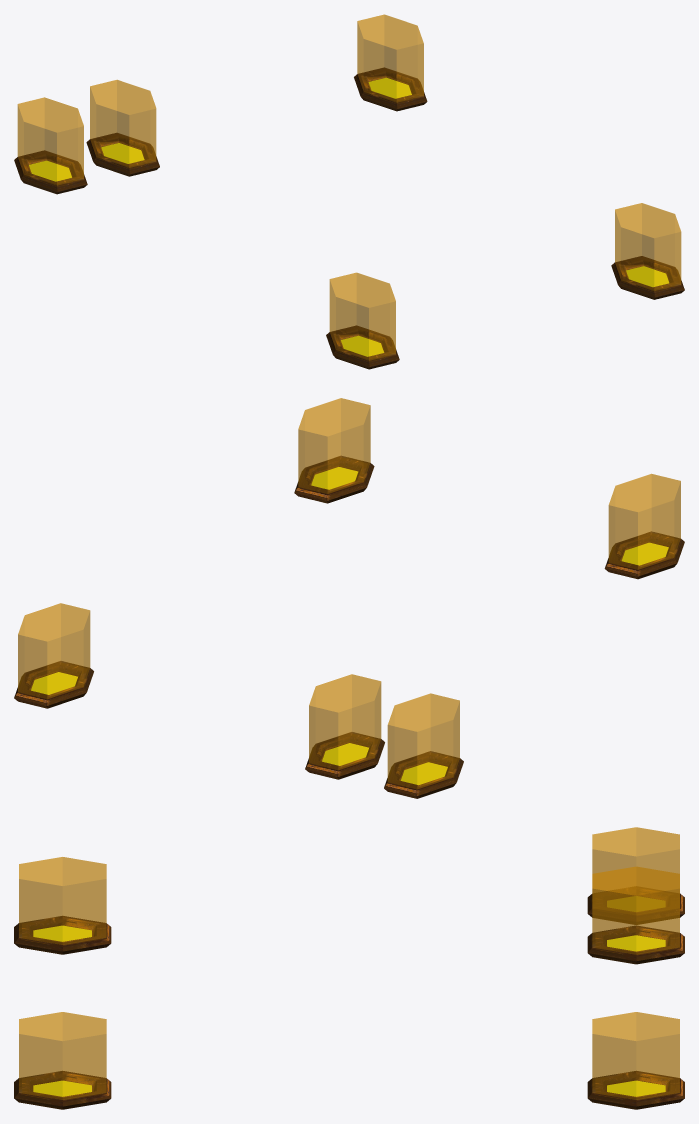
The model's file is spawnPads.gltf.
The picture shows the model from 3 angles, top to bottom: view 1: azimuth 30°, elevation 25°; view 2: azimuth 150°, elevation 25°; view 3: azimuth 270°, elevation 25°; orthographic projection. The views are drawn at different scales.
Visible parts, largest first — view 1: Spawn Pad 4, Spawn Pad 3, Spawn Pad 5, Spawn Pad 2, Spawn Pad 1; view 2: Spawn Pad 4, Spawn Pad 5, Spawn Pad 1, Spawn Pad 3, Spawn Pad 2; view 3: Spawn Pad 1, Spawn Pad 2, Spawn Pad 3, Spawn Pad 4, Spawn Pad 5.
Boxes of the visible parts, x1,y1,x2,y2 form: Spawn Pad 4: [326, 272, 399, 369]; Spawn Pad 3: [611, 203, 684, 299]; Spawn Pad 5: [14, 97, 87, 194]; Spawn Pad 2: [354, 14, 427, 111]; Spawn Pad 1: [86, 79, 159, 176]; Spawn Pad 4: [604, 473, 684, 579]; Spawn Pad 5: [384, 693, 463, 798]; Spawn Pad 1: [305, 674, 384, 779]; Spawn Pad 3: [294, 398, 374, 503]; Spawn Pad 2: [14, 603, 93, 708]; Spawn Pad 1: [587, 866, 684, 964]; Spawn Pad 2: [587, 1012, 684, 1109]; Spawn Pad 3: [14, 1012, 111, 1109]; Spawn Pad 4: [14, 857, 111, 954]; Spawn Pad 5: [587, 827, 684, 924].
Size of what is drawn, in the model's own units: 27.9 by 4.11 by 36.41.
Materials: 15 (5 with a texture image).
